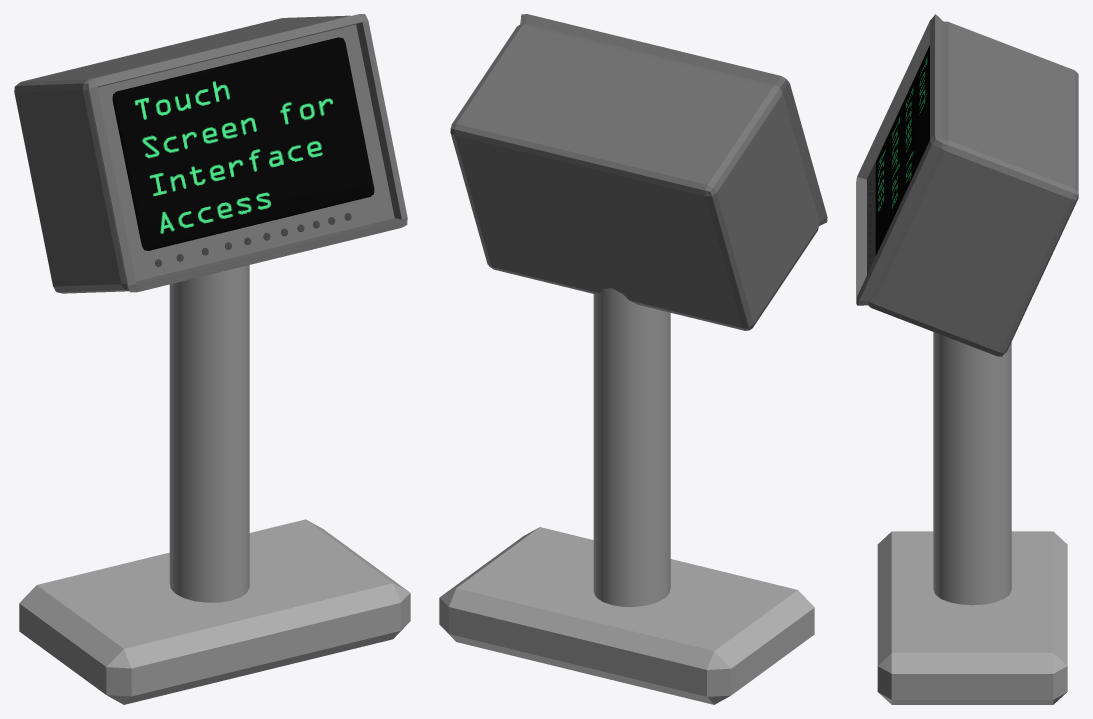
Rendered from TerminalFinal1.fbx.
3 views of the same model, side by side, from view 1: azimuth 30°, elevation 25°; view 2: azimuth 150°, elevation 25°; view 3: azimuth 270°, elevation 25° (orthographic). The views are drawn at different scales.
Visible parts, largest first — view 1: polySurface1, polySurface3, polySurface2, polySurface4; view 2: polySurface1, polySurface3, polySurface4; view 3: polySurface1, polySurface3, polySurface4, polySurface2.
Part boxes in pixels (x1,y1,x2,y2): polySurface1: (14, 14, 407, 293); polySurface3: (19, 519, 410, 704); polySurface2: (112, 37, 374, 250); polySurface4: (169, 265, 249, 602); polySurface1: (450, 14, 827, 330); polySurface3: (439, 527, 814, 704); polySurface4: (593, 288, 670, 606); polySurface1: (856, 14, 1078, 356); polySurface3: (877, 531, 1067, 704); polySurface4: (933, 332, 1011, 605); polySurface2: (875, 46, 929, 255).
Size of the model in its own units: 1.03 by 1.98 by 0.7049.
4 materials, 1 textured.
